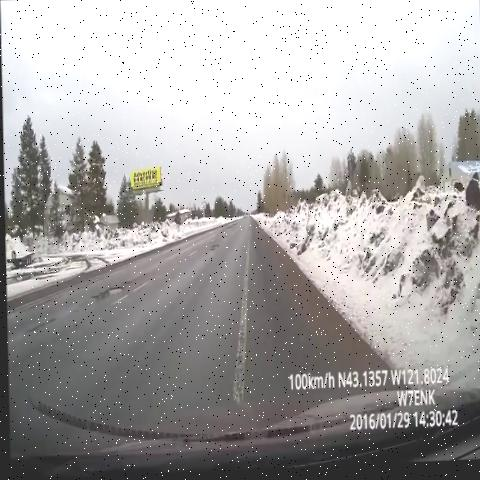pothole: (85, 273, 136, 321), (202, 235, 226, 262), (219, 221, 241, 240)
